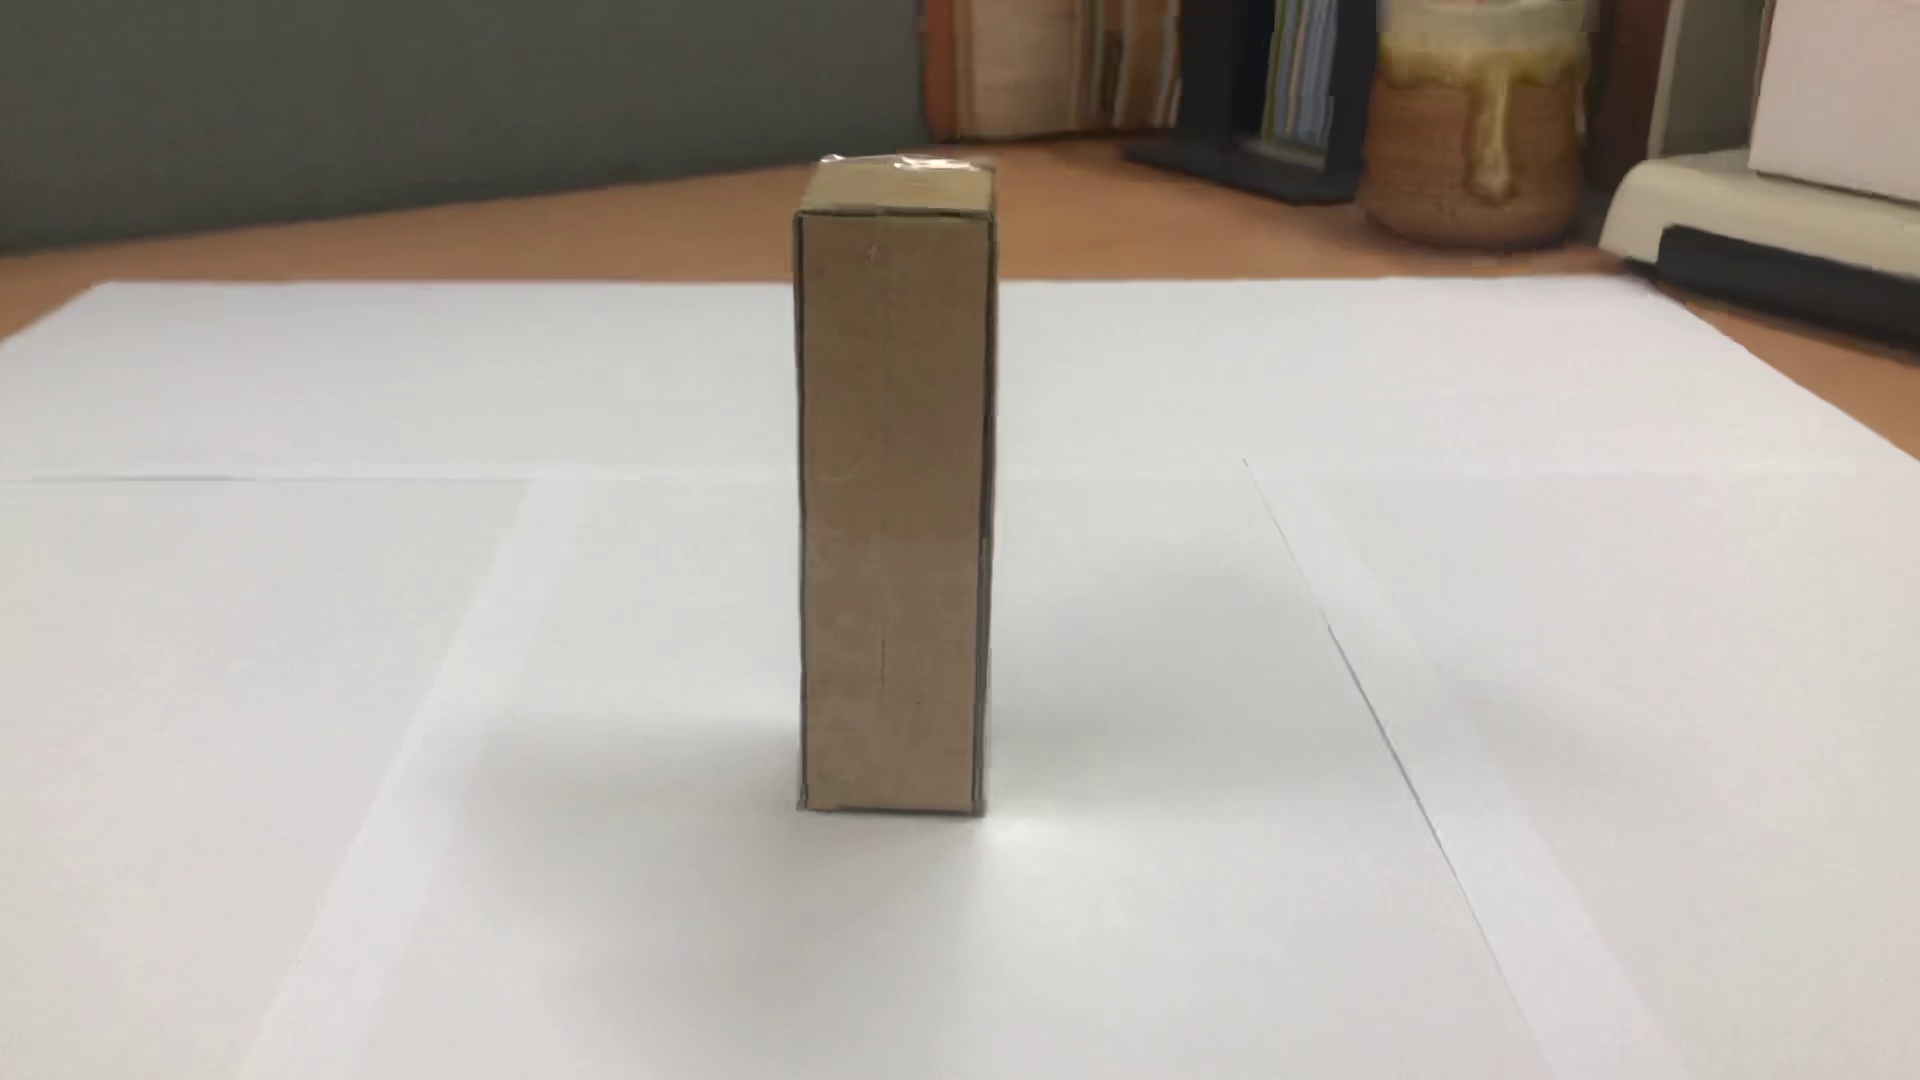box: (775, 131, 1013, 827)
